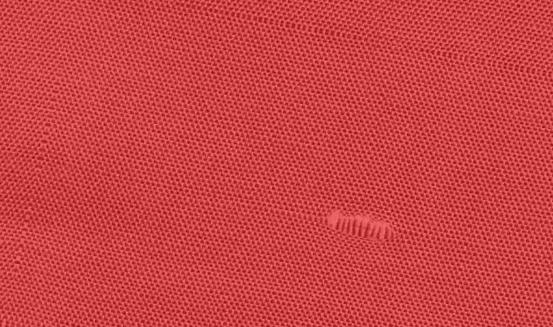slub: (318, 205, 404, 249)
